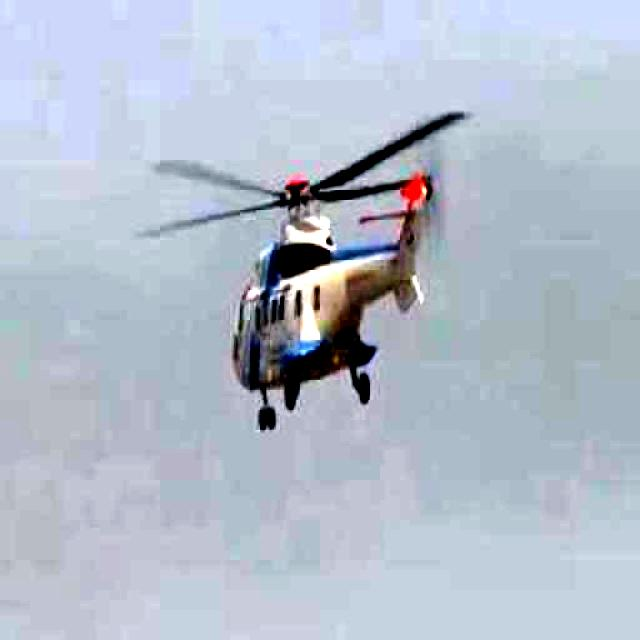drone: (86, 82, 534, 445)
